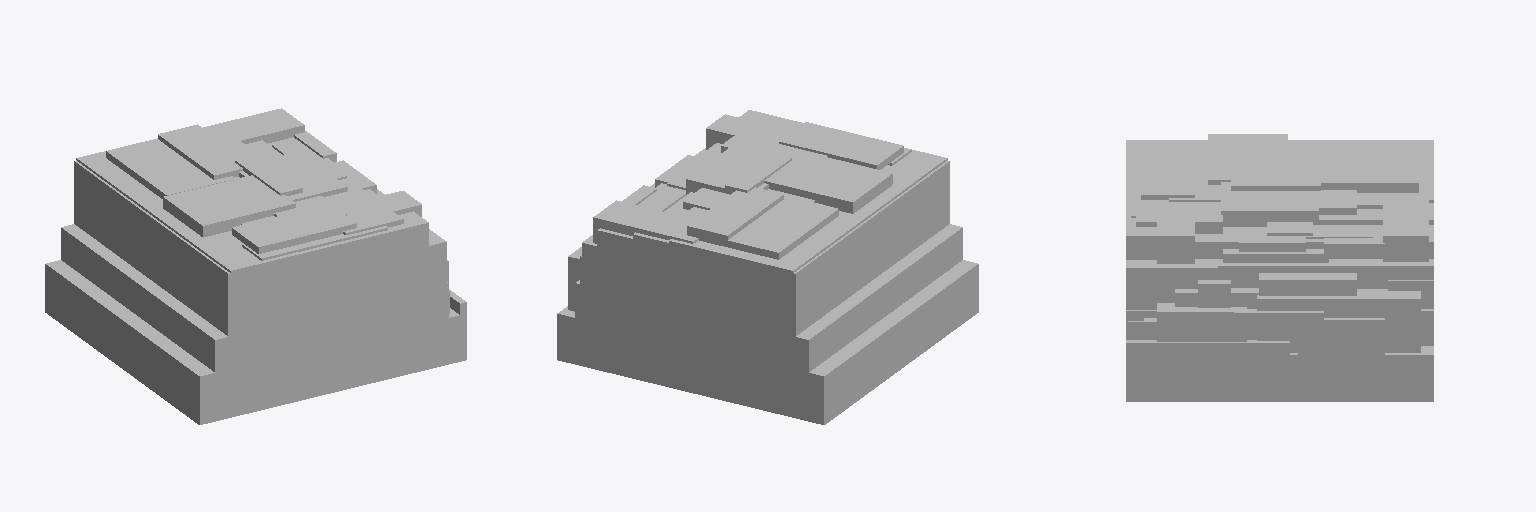
The model's file is 3d fon 2.1-4.obj.
The picture shows the model from 3 angles: view 1: azimuth 30°, elevation 25°; view 2: azimuth 150°, elevation 25°; view 3: azimuth 270°, elevation 25°; orthographic projection.
Visible parts, largest first — view 1: object 1; view 2: object 1; view 3: object 1.
Part boxes in pixels (x1,y1,x2,y2): object 1: (45,108,466,424); object 1: (557,110,978,424); object 1: (1126,134,1433,401).
Bounding box in the file's own units: 12 × 6.9 × 12.